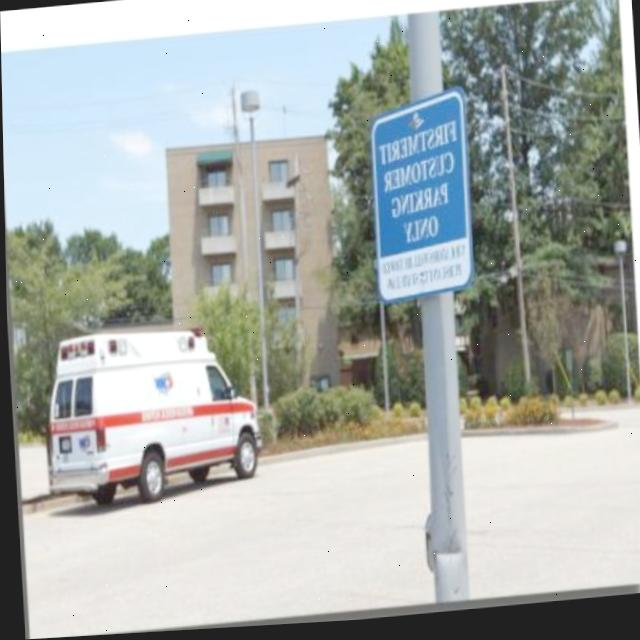emergency: (31, 312, 267, 524)
